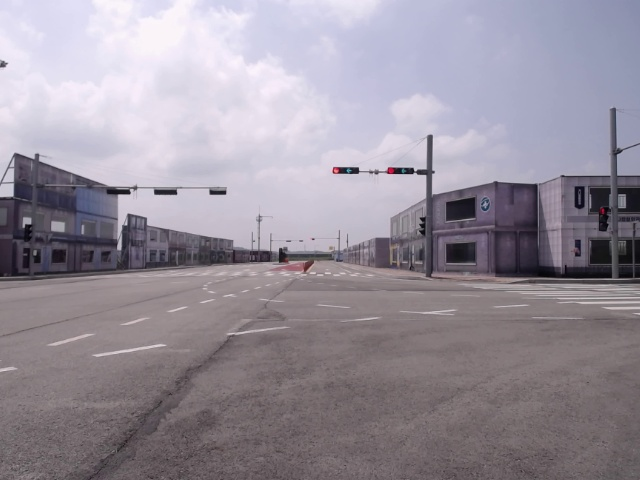left_green_4: (333, 167, 359, 174), (388, 167, 413, 174)
